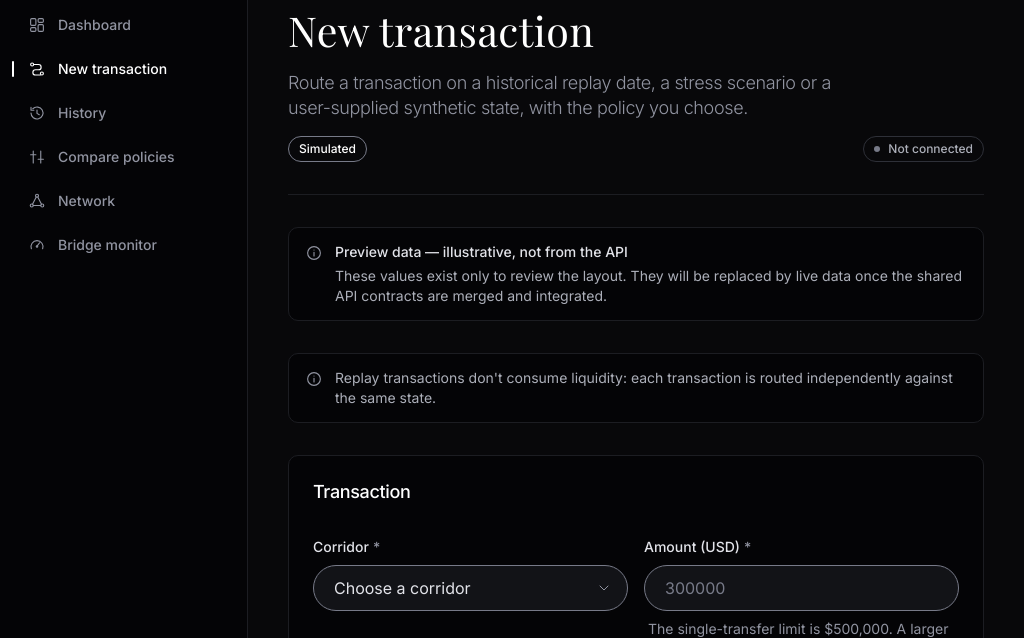
Test: validation › requires each explicit venue's liquidity and congestion
Select "GBR → PHL" in the dropdown labelled "Corridor" at (470, 588), box [313,565,628,611]
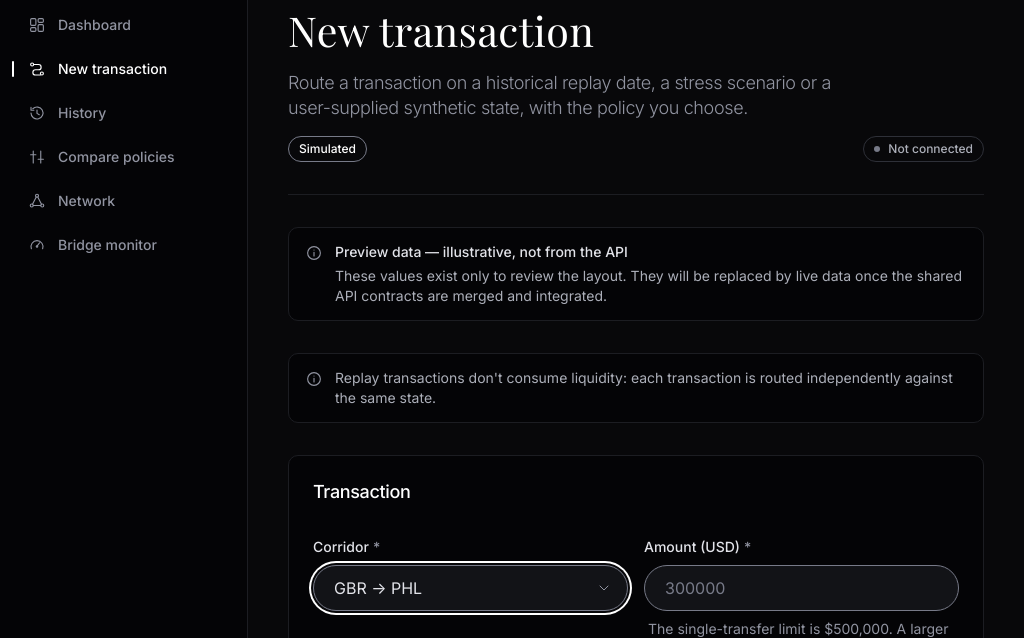
Type "100000" into the field labelled "Amount (USD)" at (802, 588), box [644,565,959,611]
(page scrolled)
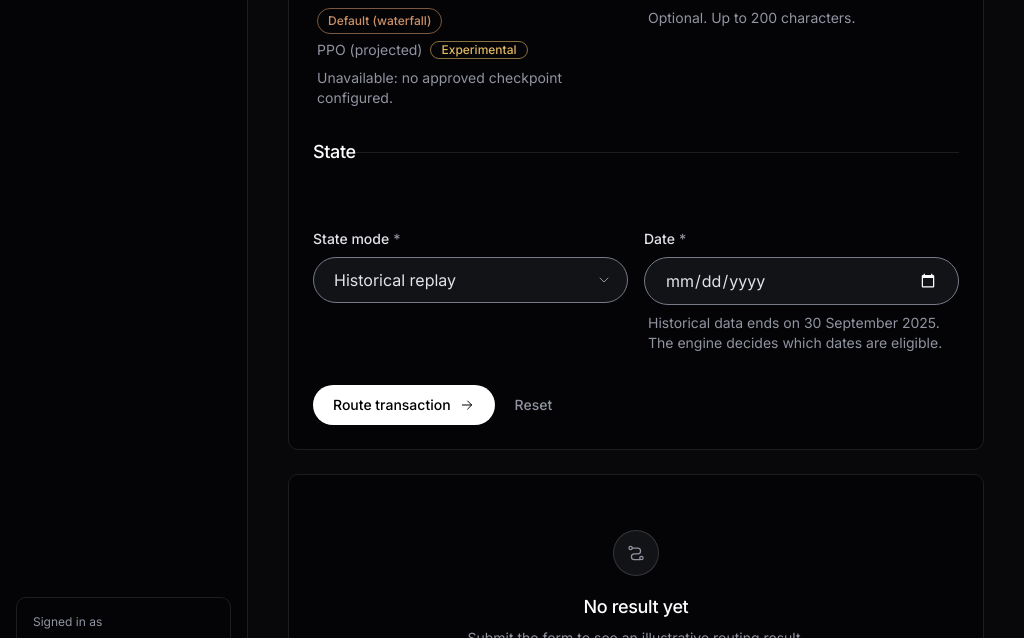
Select "Explicit state" in the dropdown labelled "State mode" at (470, 280), box [313,257,628,303]
(page scrolled)
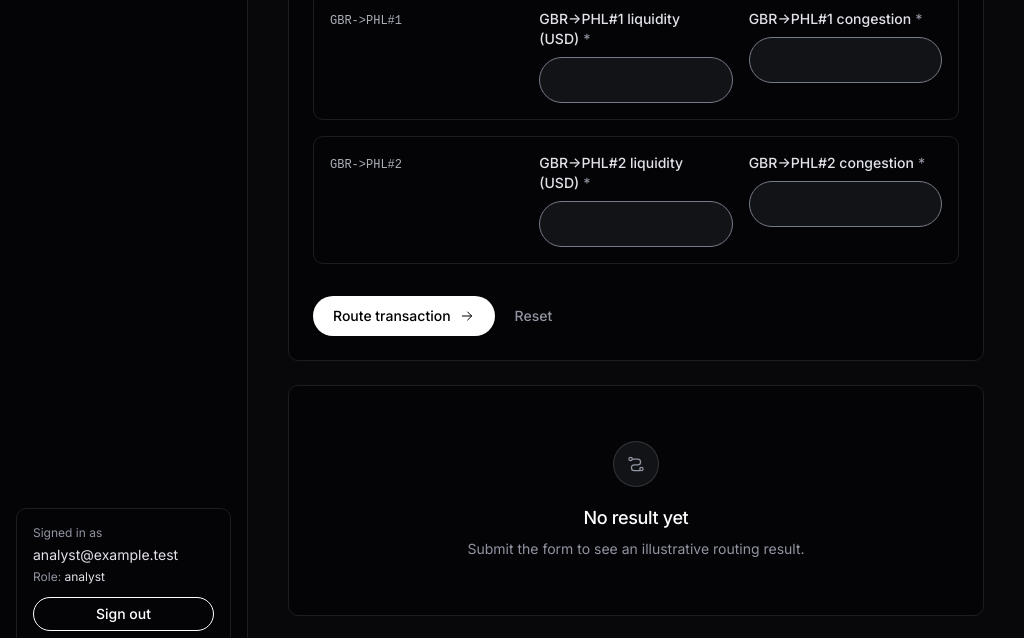
Click the button "Route transaction" at (404, 316), box [313,296,495,336]
(page scrolled)
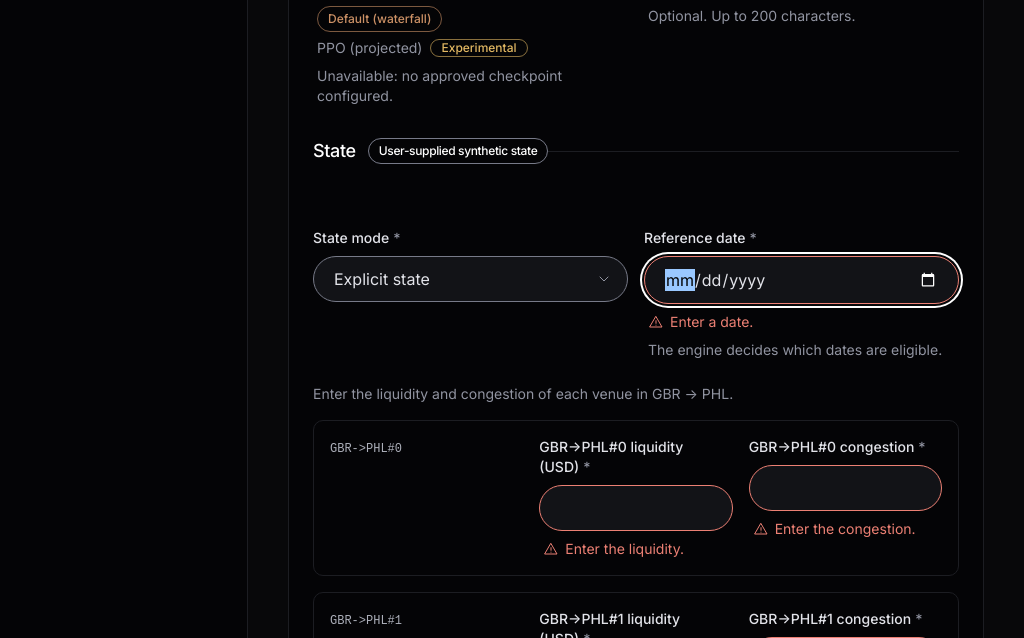
Result: the text "Enter the liquidity." is shown 3 times
Result: the text "Enter the congestion." is shown 3 times
Result: the text "Enter a date." is shown at [670,312,753,332]
